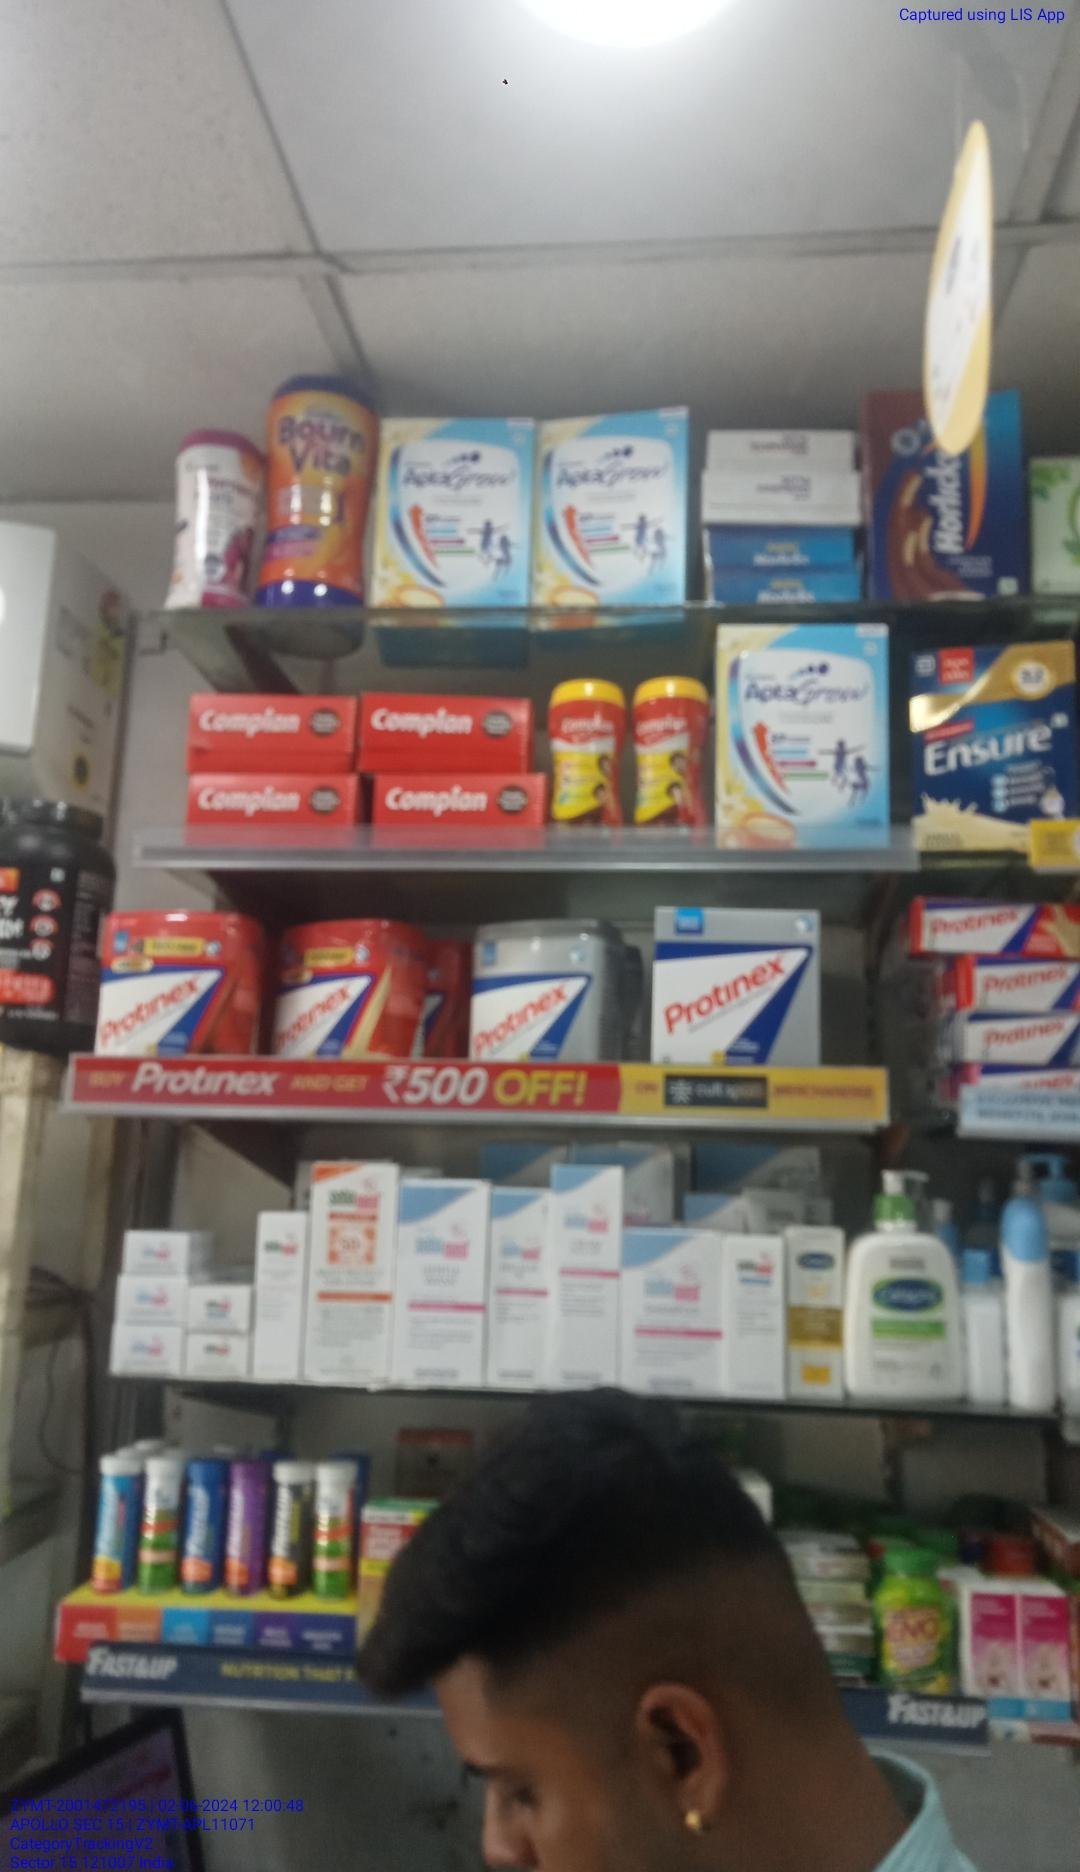COMPLAN_CHOCOLATE_200_GMS_JAR: (541, 678, 625, 841), (631, 674, 707, 842)
ENSURE_VANILLA_400_G_PACK: (908, 631, 1080, 860)
PROTINEX_CHOCOLATE_400_G_JAR: (99, 910, 255, 1063)
PROTINEX_ORIGINAL_400_G_JAR: (472, 919, 621, 1063)
PROTINEX_VANILLA_400_G_JAR: (276, 924, 415, 1081)
